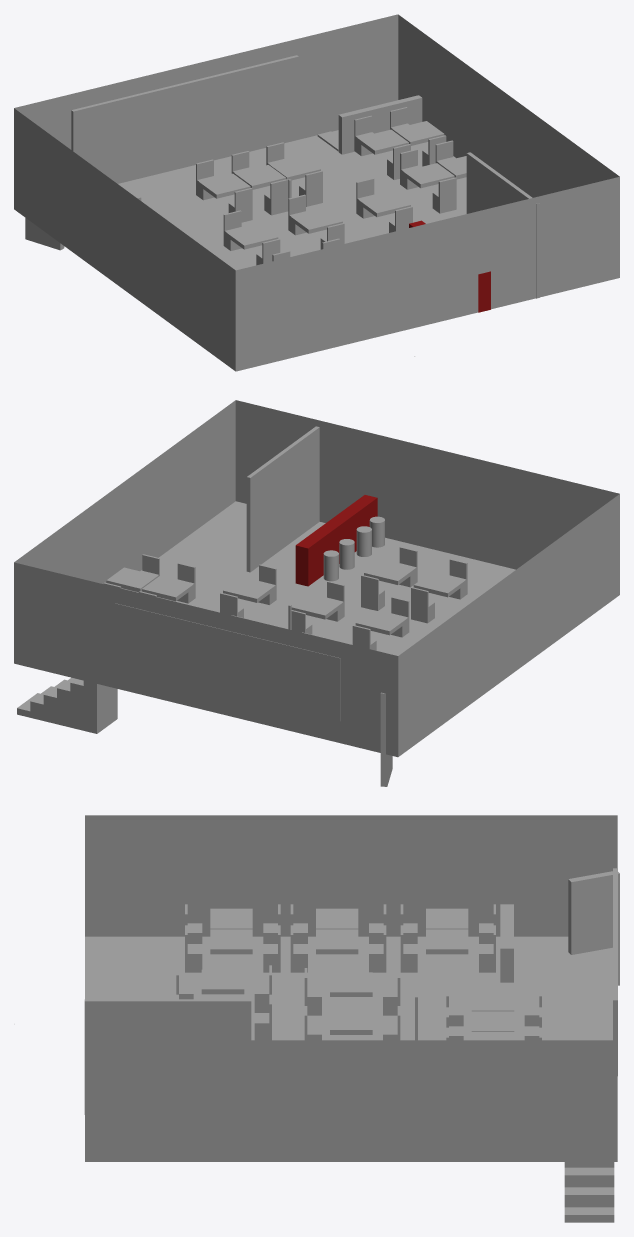
The model's file is Blockout restaurant.fbx.
The picture shows the model from 3 angles, top to bottom: view 1: azimuth 30°, elevation 25°; view 2: azimuth 150°, elevation 25°; view 3: azimuth 270°, elevation 25°; orthographic projection. The views are drawn at different scales.
Visible parts, largest first — view 1: pPlane1, pCube65, pCube6, pCube7, pCube41, pCube3, pCube38, pCube29, pCube44, pCube53, pCube47, pCube32 (+13 smaller); view 2: pPlane1, pCube65, pCube6, pCube8, pCube5, pCube41, pCube64, pCube44, pCube38, pCube61, pCube3, pCube35 (+4 smaller); view 3: pPlane1, pCube6, pCube9, pCube8, pCube64, pCube23, pCube14, pCube17, pCube4, pCube3, pCube41, pCube53 (+13 smaller).
Part boxes in pixels (x1,y1,x2,y2): pPlane1: (14,14,619,371); pCube65: (71,55,298,168); pCube6: (466,152,539,298); pCube7: (338,95,422,154); pCube41: (226,224,278,249); pCube3: (291,208,342,233); pCube38: (403,163,454,188); pCube29: (357,129,408,154); pCube44: (359,192,410,217); pCube53: (199,173,250,198); pCube47: (234,165,286,189); pCube32: (392,121,444,145); pPlane1: (14,400,619,757); pCube65: (115,603,340,721); pCube6: (246,426,319,572); pCube8: (17,677,117,733); pCube5: (295,495,377,586); pCube41: (355,610,407,635); pCube64: (413,572,465,597); pCube44: (223,578,274,602); pCube38: (142,576,193,601); pCube61: (364,560,415,584); pCube3: (291,594,342,619); pCube35: (106,567,157,592); pPlane1: (85,815,617,1161); pCube6: (84,999,251,1114); pCube9: (568,871,619,985); pCube8: (564,1162,614,1222); pCube64: (201,969,244,994); pCube23: (210,929,252,954); pCube14: (426,929,468,954); pCube17: (316,929,358,954); pCube4: (500,904,513,982); pCube3: (330,1010,372,1034); pCube41: (330,972,372,996); pCube53: (471,990,514,1011).
Size of the model in its own units: 1841 by 699 by 2095.
